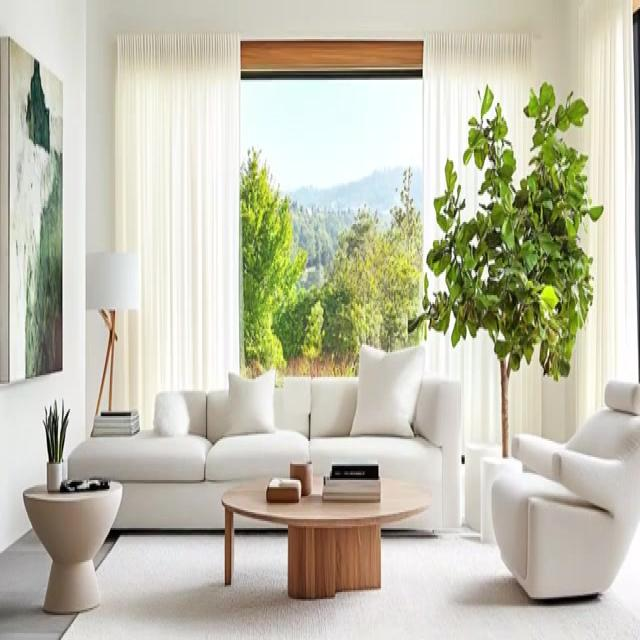obstacle: (66, 372, 462, 534), (490, 379, 639, 601), (220, 475, 432, 599)
